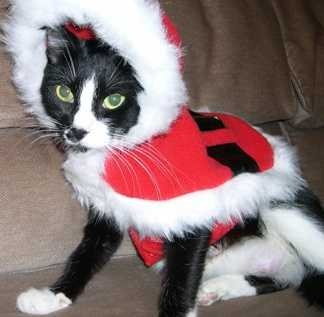Cat: (41, 18, 323, 305)
